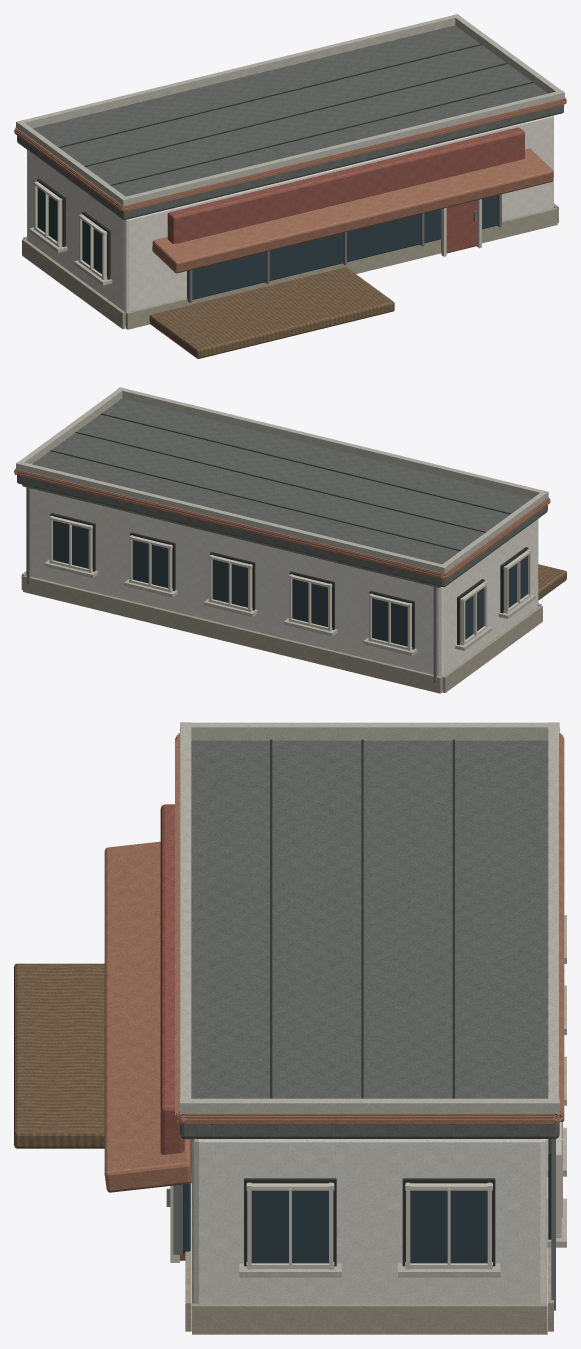
The model's file is COM_LOW_2x1_004.glb.
The picture shows the model from 3 angles, top to bottom: view 1: azimuth 30°, elevation 25°; view 2: azimuth 150°, elevation 25°; view 3: azimuth 270°, elevation 25°; orthographic projection. The views are drawn at different scales.
Visible parts, largest first — view 1: COM_LOW_2x1_004_Visual; view 2: COM_LOW_2x1_004_Visual; view 3: COM_LOW_2x1_004_Visual.
Part boxes in pixels (x1,y1,x2,y2): COM_LOW_2x1_004_Visual: [14, 14, 566, 358]; COM_LOW_2x1_004_Visual: [14, 387, 566, 693]; COM_LOW_2x1_004_Visual: [14, 722, 566, 1334].
Size of what is drawn, in the model's own units: 3.81 by 1.07 by 2.3.
Materials: 12 (7 with a texture image).
